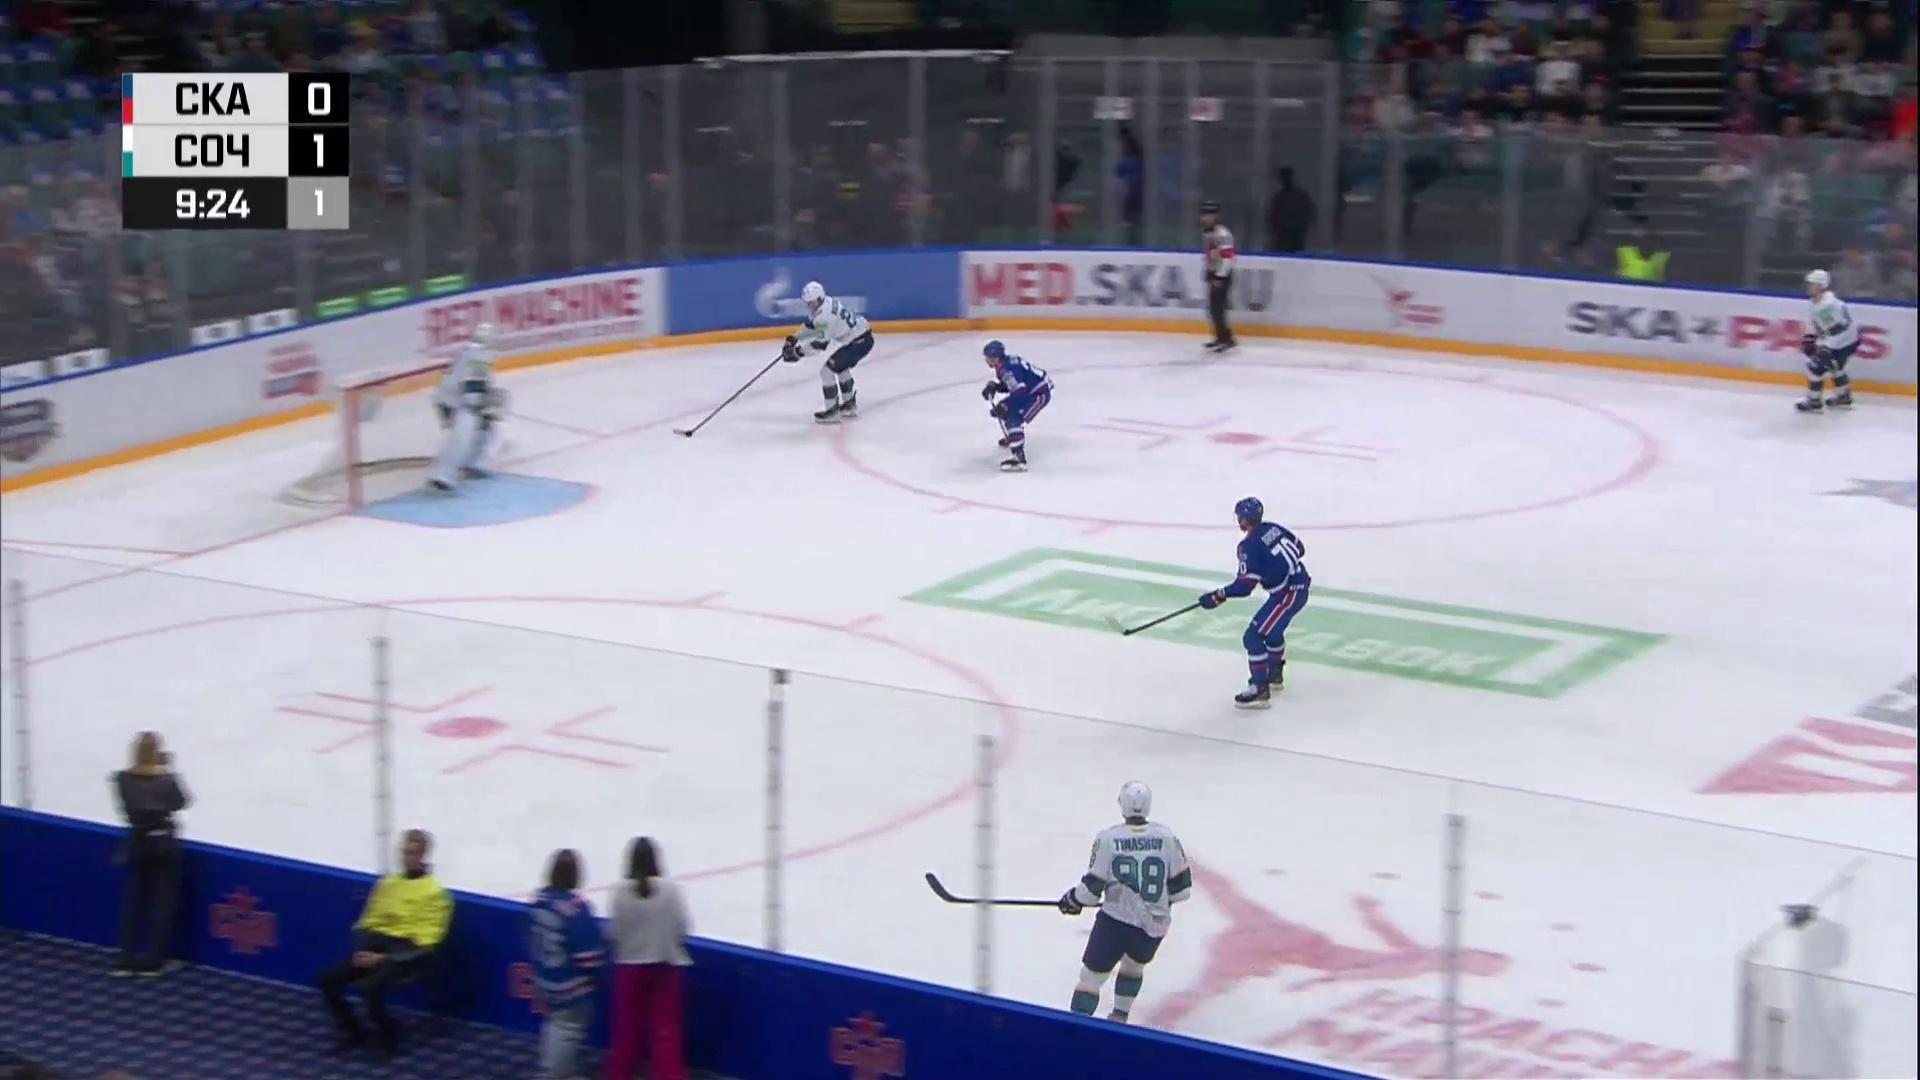ball: (684, 431, 692, 438)
